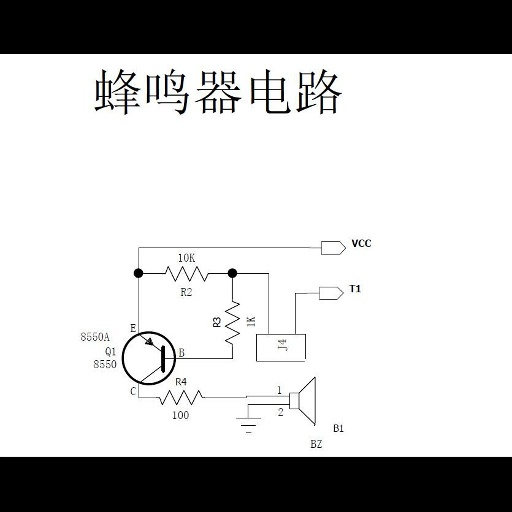gnd: (232, 414, 266, 437)
loudspeaker: (285, 376, 322, 426)
pnp: (137, 334, 168, 382)
secondresistance: (160, 262, 214, 284), (156, 386, 207, 407), (224, 294, 241, 347)
